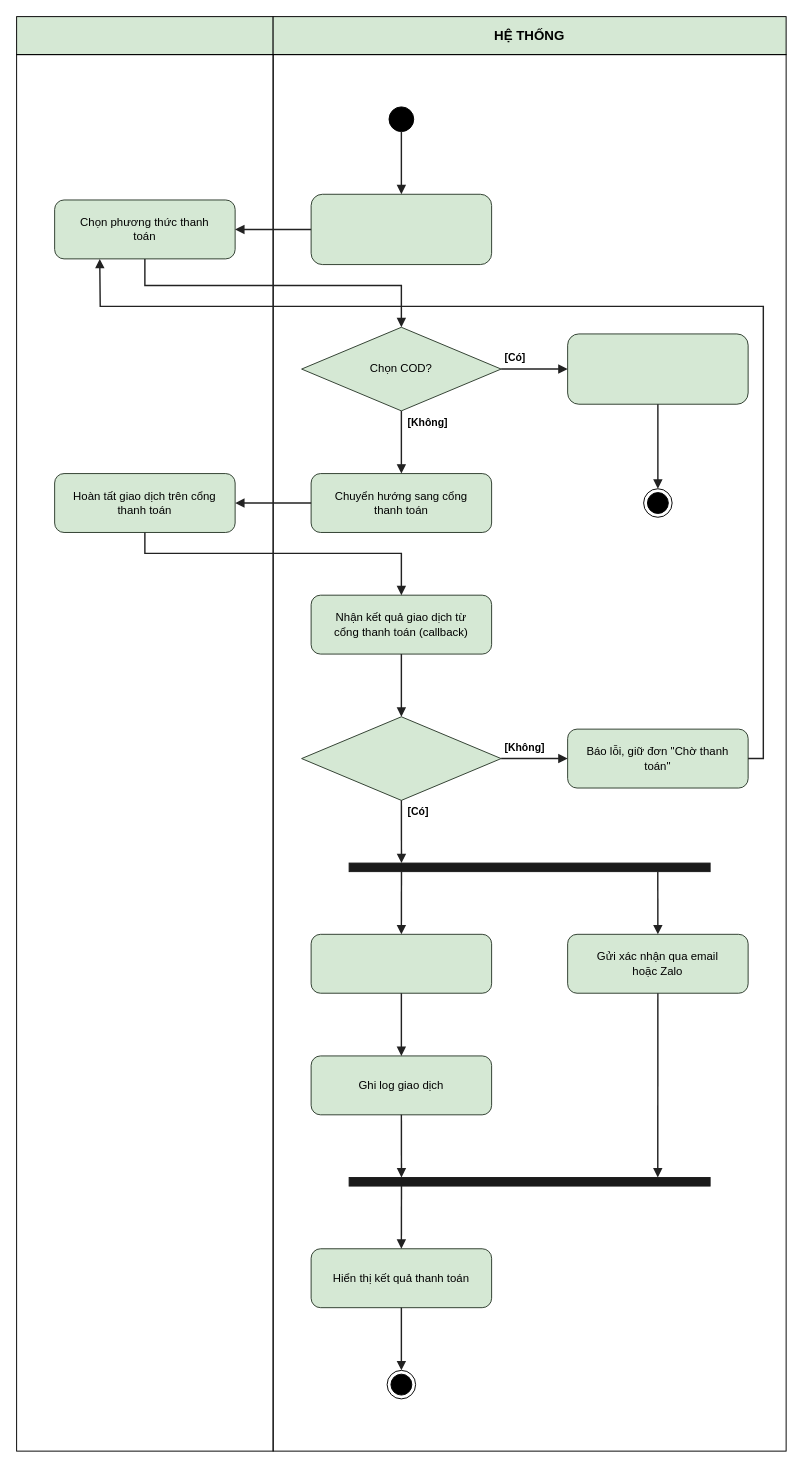
Image size: 803x1468. Some labels were removed from this diagram. Each missing label, with the centre of its shape:
Cập nhật đơn "Chờ xác nhận": point (401, 963)
Hiển thị các phương thức thanh toán (COD, VNPay, Momo): point (401, 229)
NGƯỜI DÙNG: point (144, 35)
Thanh toán thành công?: point (401, 758)
Đơn chuyển "Chờ xác nhận", gửi xác nhận, báo đặt hàng thành công: point (657, 368)
